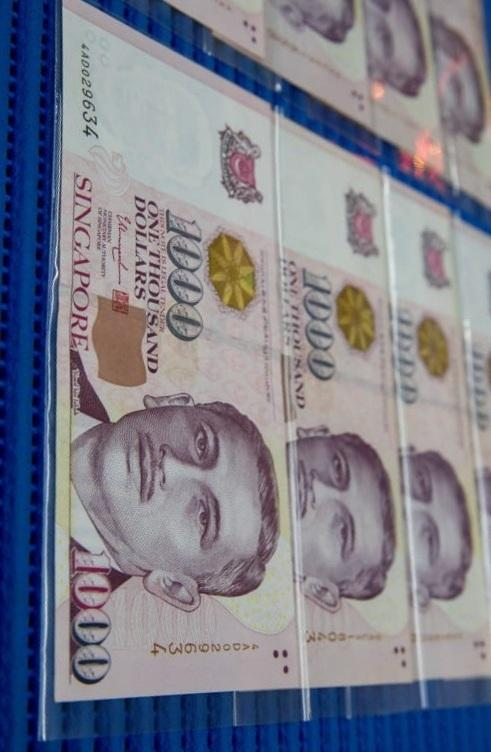1000SingaporeDollar: (64, 40, 290, 686)
